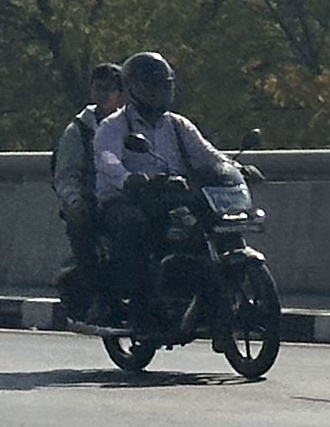BikeWithRider: (46, 47, 288, 374)
Helmet: (122, 49, 176, 118)
NoHelmet: (88, 59, 130, 110)
